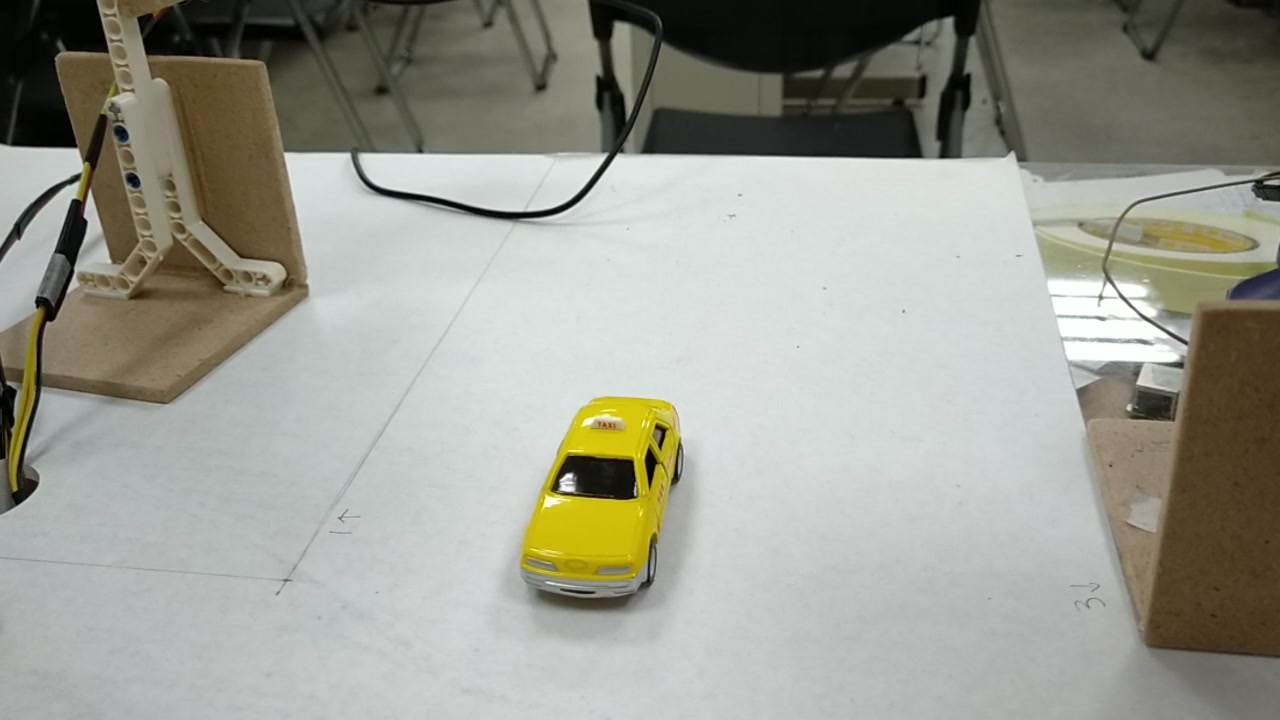car: (515, 398, 684, 592)
